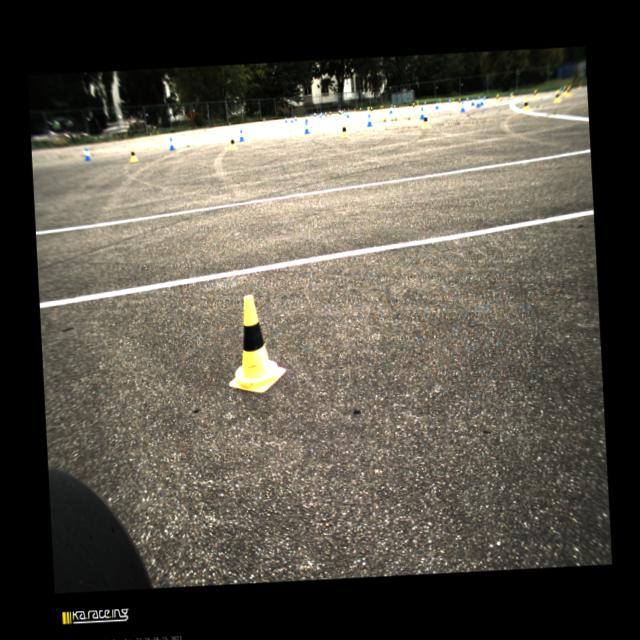blue_cone: (84, 148, 92, 162), (168, 138, 176, 150), (366, 113, 372, 127), (459, 100, 466, 112), (238, 129, 244, 142), (304, 122, 310, 134), (476, 98, 481, 108), (420, 108, 424, 120), (389, 105, 393, 114), (480, 96, 484, 105), (346, 110, 350, 118), (435, 102, 439, 110), (471, 98, 475, 106), (290, 116, 294, 123), (284, 116, 288, 122), (294, 115, 298, 121), (305, 114, 308, 122), (324, 111, 328, 117), (424, 100, 427, 106), (448, 98, 451, 104), (509, 92, 512, 98), (466, 97, 469, 102), (320, 112, 322, 118), (320, 110, 322, 116), (342, 108, 344, 114), (483, 96, 486, 100), (313, 112, 315, 117), (340, 110, 342, 115), (394, 104, 396, 109), (560, 86, 562, 91), (314, 112, 316, 116)
yellow_cone: (224, 294, 287, 394), (228, 136, 238, 150), (340, 123, 349, 138), (421, 113, 430, 128), (552, 90, 562, 103), (130, 148, 138, 162), (523, 97, 530, 111), (565, 85, 573, 96), (532, 89, 539, 100), (562, 85, 568, 96), (495, 94, 500, 102), (328, 110, 332, 118), (338, 110, 342, 118), (458, 98, 462, 106), (578, 82, 582, 90), (370, 106, 373, 115), (412, 102, 415, 110), (359, 107, 362, 114), (379, 105, 382, 112), (511, 92, 514, 98), (382, 105, 384, 112), (338, 110, 340, 116), (354, 108, 356, 114), (368, 106, 370, 112), (452, 98, 454, 104), (344, 109, 346, 114), (348, 108, 350, 113), (392, 104, 394, 109), (417, 102, 419, 106), (439, 100, 441, 104)
